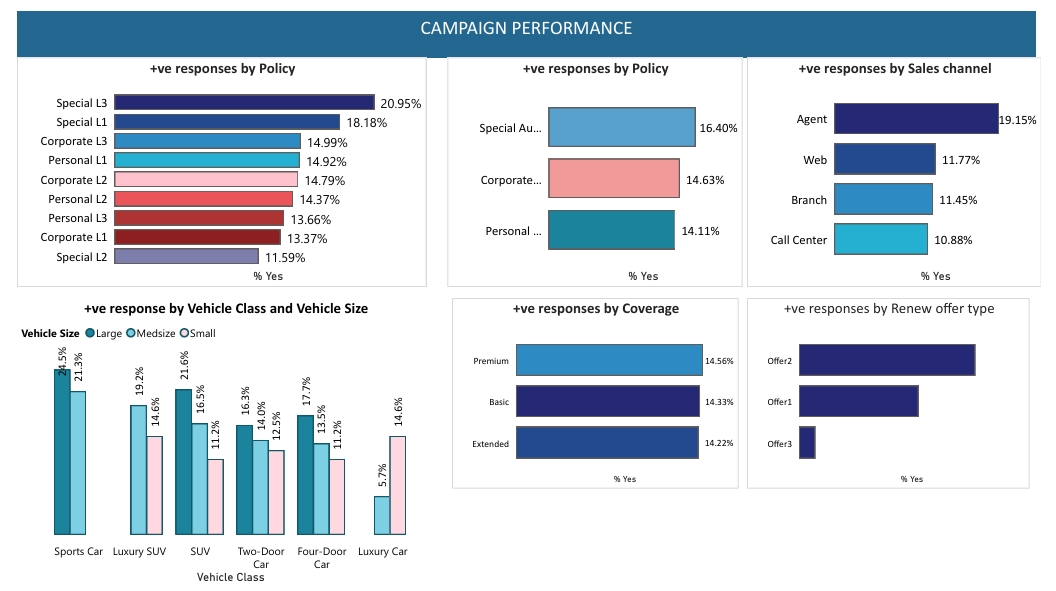

The dashboard page shown, as its layout file describes it:
{"tool":"powerbi","page":{"name":"Effectiveness by product characteristics","canvas":[1280,720],"ordinal":1},"visuals":[{"type":"textbox","box":[0,0,1274.3,58.3],"z":1000},{"type":"barChart","title":"+ve responses by Policy","fields":{"Category":["MarketingCampaign.Policy"],"Y":["MarketingCampaign.% Yes"],"Series":["MarketingCampaign.Policy"]},"box":[0,58.3,511.7,286.6],"z":2000},{"type":"barChart","title":"+ve responses by Policy","fields":{"Category":["MarketingCampaign.Policy Type"],"Y":["MarketingCampaign.% Yes"],"Series":["MarketingCampaign.Policy Type"]},"box":[537.6,58.3,369.2,286.6],"z":3000},{"type":"barChart","title":"+ve responses by Coverage","fields":{"Category":["MarketingCampaign.Coverage"],"Y":["MarketingCampaign.% Yes"],"Series":["MarketingCampaign.Coverage"]},"box":[544.1,359.5,357.8,238],"z":4000},{"type":"barChart","title":"+ve responses by Sales channel","fields":{"Category":["MarketingCampaign.Sales Channel"],"Y":["MarketingCampaign.% Yes"],"Series":["MarketingCampaign.Sales Channel"]},"box":[913.2,58.3,367.6,286.6],"z":5000},{"type":"barChart","title":"+ve responses by Renew offer type","fields":{"Category":["MarketingCampaign.Renew Offer Type"],"Y":["MarketingCampaign.% Yes"]},"box":[913.2,359.5,353,238],"z":6000},{"type":"clusteredColumnChart","title":"+ve response by Vehicle Class and Vehicle Size","fields":{"Y":["MarketingCampaign.% Yes"],"Category":["MarketingCampaign.Vehicle Class"],"Series":["MarketingCampaign.Vehicle Size"]},"box":[0,359.5,523,361.1],"z":7000}]}

Visuals, with their boxes in screenshot pixels (x1, y1, x2, y2), scaled from the page's 1280x720 canvas onto the 1056x591 screenshot:
textbox: [left=0, top=0, right=1051, bottom=48]
"+ve responses by Policy" barChart: [left=0, top=48, right=422, bottom=283]
"+ve responses by Policy" barChart: [left=444, top=48, right=748, bottom=283]
"+ve responses by Coverage" barChart: [left=449, top=295, right=744, bottom=490]
"+ve responses by Sales channel" barChart: [left=753, top=48, right=1055, bottom=283]
"+ve responses by Renew offer type" barChart: [left=753, top=295, right=1045, bottom=490]
"+ve response by Vehicle Class and Vehicle Size" clusteredColumnChart: [left=0, top=295, right=431, bottom=590]
